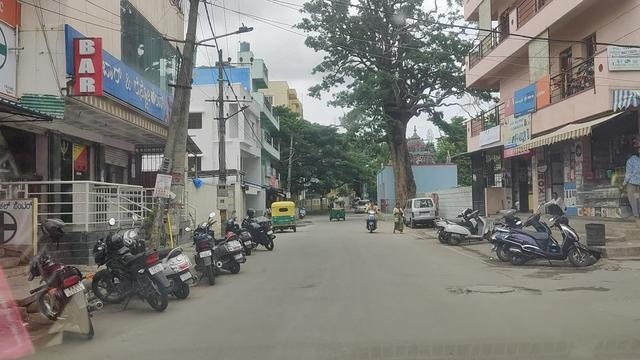LMV: (0, 193, 137, 360)
RoadDamages: (442, 276, 547, 303)
